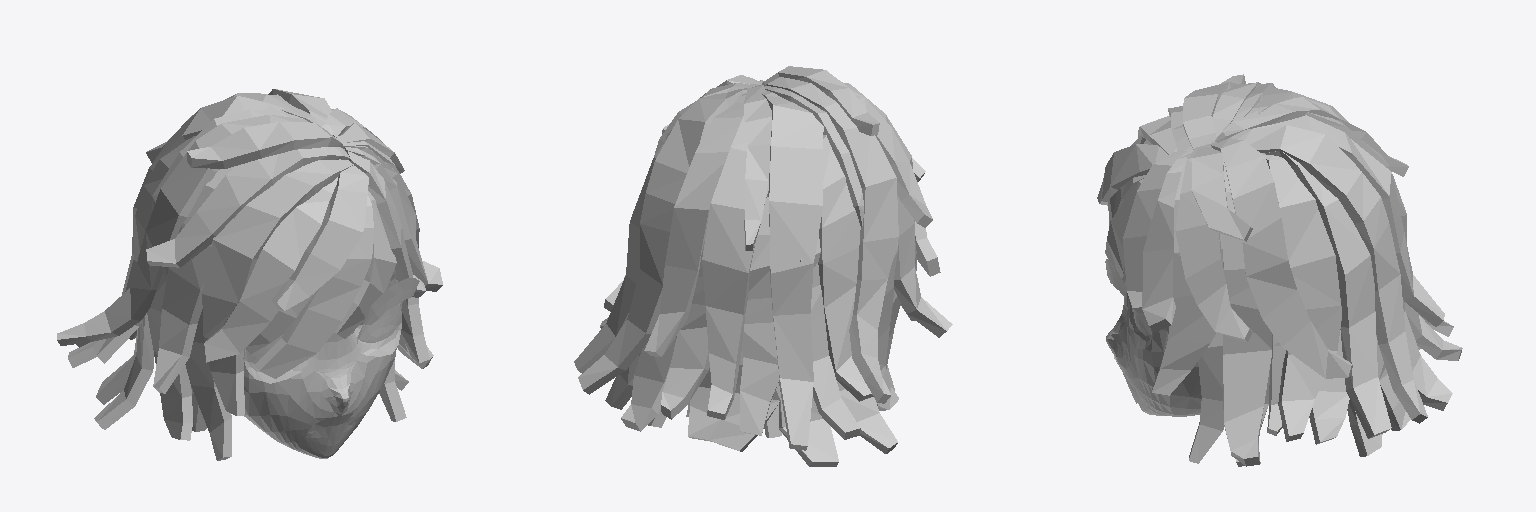
The model's file is head.obj.
The picture shows the model from 3 angles: view 1: azimuth 30°, elevation 25°; view 2: azimuth 150°, elevation 25°; view 3: azimuth 270°, elevation 25°; orthographic projection.
Parts seen in each view (by area): view 1: girl_OBJ:Mesh polySurface1, girl_OBJ:Mesh polySurface11, girl_OBJ:Mesh polySurface23, girl_OBJ:Mesh polySurface10, girl_OBJ:Mesh polySurface18, girl_OBJ:Mesh polySurface7, girl_OBJ:Mesh polySurface9, girl_OBJ:Mesh polySurface13, girl_OBJ:Mesh polySurface15, girl_OBJ:Mesh polySurface22, girl_OBJ:Mesh polySurface14, girl_OBJ:Mesh polySurface36 (+17 smaller); view 2: girl_OBJ:Mesh polySurface21, girl_OBJ:Mesh polySurface23, girl_OBJ:Mesh polySurface30, girl_OBJ:Mesh polySurface20, girl_OBJ:Mesh polySurface19, girl_OBJ:Mesh polySurface24, girl_OBJ:Mesh polySurface14, girl_OBJ:Mesh polySurface33, girl_OBJ:Mesh polySurface32, girl_OBJ:Mesh polySurface26, girl_OBJ:Mesh polySurface25, girl_OBJ:Mesh polySurface22 (+7 smaller); view 3: girl_OBJ:Mesh polySurface30, girl_OBJ:Mesh polySurface31, girl_OBJ:Mesh polySurface28, girl_OBJ:Mesh polySurface29, girl_OBJ:Mesh polySurface27, girl_OBJ:Mesh polySurface46, girl_OBJ:Mesh polySurface14, girl_OBJ:Mesh polySurface1, girl_OBJ:Mesh polySurface19, girl_OBJ:Mesh polySurface12, girl_OBJ:Mesh polySurface16, polySurface5 girl_OBJ:Mesh (+15 smaller).
Boxes of the visible parts, <box> form: girl_OBJ:Mesh polySurface1: <box>243,269,402,458</box>; girl_OBJ:Mesh polySurface11: <box>202,159,353,415</box>; girl_OBJ:Mesh polySurface23: <box>57,115,309,345</box>; girl_OBJ:Mesh polySurface10: <box>204,177,337,362</box>; girl_OBJ:Mesh polySurface18: <box>146,147,349,267</box>; girl_OBJ:Mesh polySurface7: <box>255,196,373,378</box>; girl_OBJ:Mesh polySurface9: <box>271,160,368,310</box>; girl_OBJ:Mesh polySurface13: <box>153,166,236,393</box>; girl_OBJ:Mesh polySurface15: <box>187,122,344,168</box>; girl_OBJ:Mesh polySurface22: <box>147,109,301,440</box>; girl_OBJ:Mesh polySurface14: <box>94,313,153,429</box>; girl_OBJ:Mesh polySurface36: <box>185,309,231,460</box>; girl_OBJ:Mesh polySurface21: <box>761,90,823,450</box>; girl_OBJ:Mesh polySurface23: <box>765,77,898,403</box>; girl_OBJ:Mesh polySurface30: <box>578,88,747,394</box>; girl_OBJ:Mesh polySurface20: <box>702,116,768,419</box>; girl_OBJ:Mesh polySurface19: <box>644,93,745,356</box>; girl_OBJ:Mesh polySurface24: <box>818,135,873,401</box>; girl_OBJ:Mesh polySurface14: <box>605,352,897,466</box>; girl_OBJ:Mesh polySurface33: <box>740,197,779,435</box>; girl_OBJ:Mesh polySurface32: <box>661,241,709,419</box>; girl_OBJ:Mesh polySurface26: <box>744,84,771,250</box>; girl_OBJ:Mesh polySurface25: <box>800,235,860,439</box>; girl_OBJ:Mesh polySurface22: <box>764,86,898,410</box>; girl_OBJ:Mesh polySurface30: <box>1230,125,1427,423</box>; girl_OBJ:Mesh polySurface31: <box>1209,138,1352,378</box>; girl_OBJ:Mesh polySurface28: <box>1266,155,1341,441</box>; girl_OBJ:Mesh polySurface29: <box>1211,138,1391,438</box>; girl_OBJ:Mesh polySurface27: <box>1223,153,1271,466</box>; girl_OBJ:Mesh polySurface46: <box>1175,144,1252,342</box>; girl_OBJ:Mesh polySurface14: <box>1267,330,1410,456</box>; girl_OBJ:Mesh polySurface1: <box>1106,282,1201,416</box>; girl_OBJ:Mesh polySurface19: <box>1253,115,1444,326</box>; girl_OBJ:Mesh polySurface12: <box>1142,150,1193,332</box>; girl_OBJ:Mesh polySurface16: <box>1152,148,1222,395</box>; polySurface5 girl_OBJ:Mesh: <box>1123,151,1186,312</box>.
Size of the model in its own units: 0.3102 by 0.2912 by 0.3044.